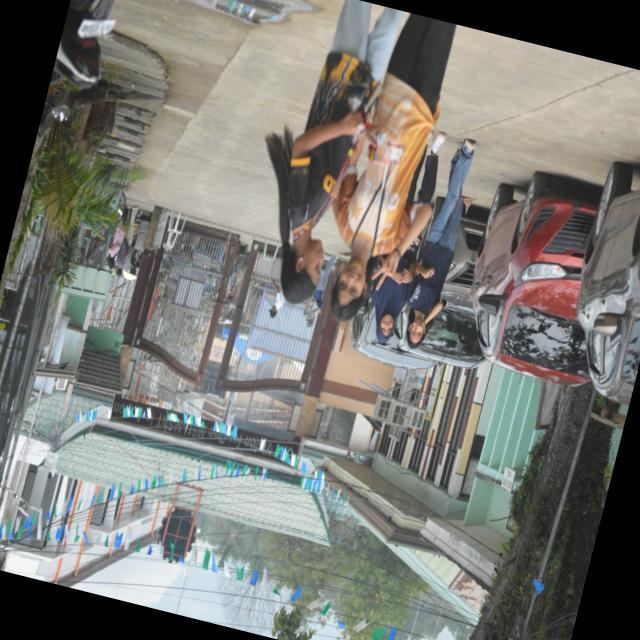person: (266, 0, 403, 302), (330, 14, 455, 320), (406, 138, 475, 347), (406, 132, 445, 204), (303, 254, 335, 327), (116, 205, 138, 275), (269, 280, 284, 317)
